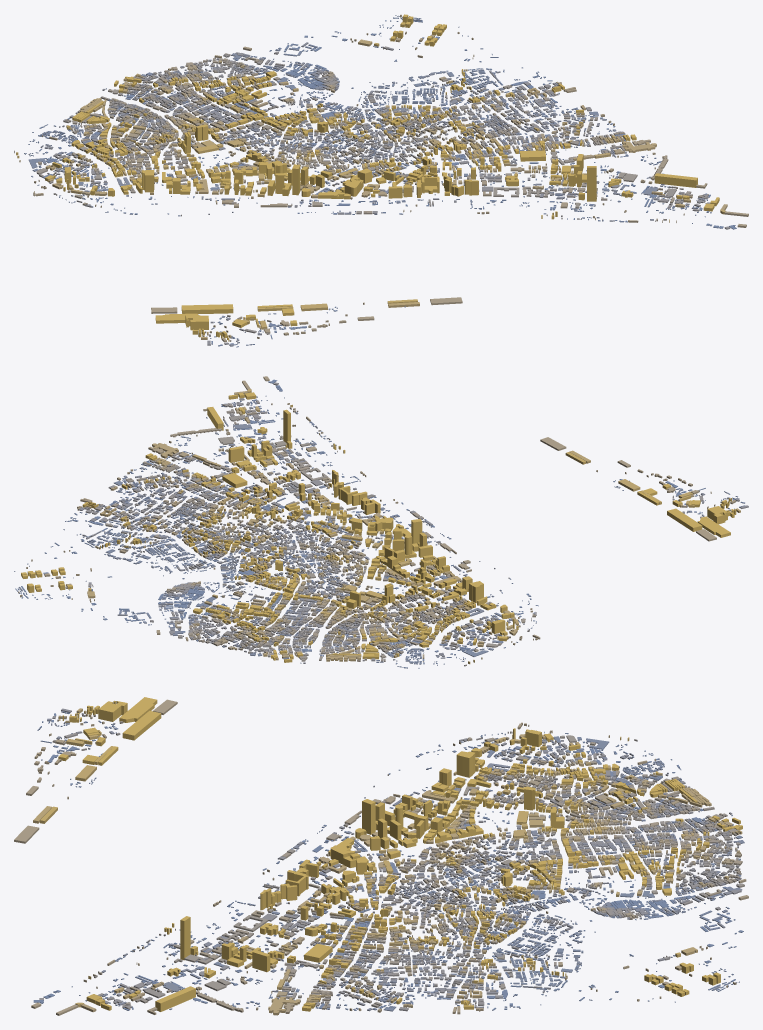
File: buildings.glb
The picture shows the model from 3 angles, top to bottom: view 1: azimuth 30°, elevation 25°; view 2: azimuth 150°, elevation 25°; view 3: azimuth 270°, elevation 25°; orthographic projection. The views are drawn at different scales.
Visible parts, largest first — view 1: buildings; view 2: buildings; view 3: buildings.
Boxes of the visible parts, x1,y1,x2,y2 form: buildings: (14, 14, 748, 347); buildings: (14, 376, 748, 668); buildings: (14, 697, 748, 1015).
Size of the model in its own units: 2751 by 163 by 2708.
